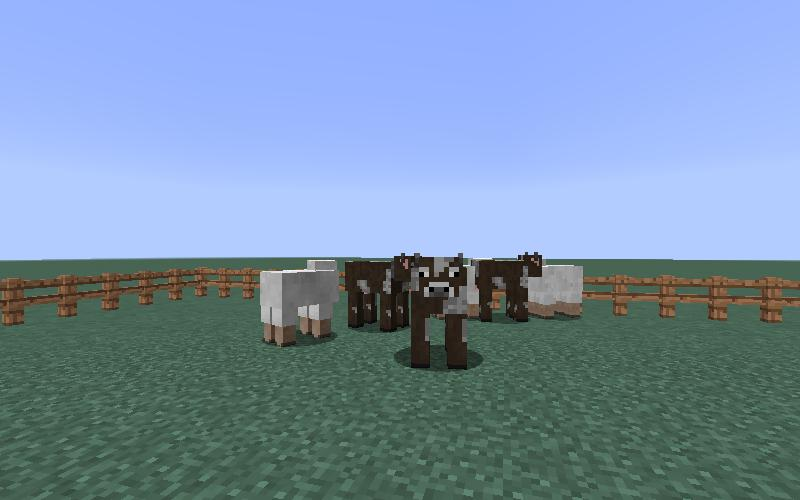cow: (405, 250, 473, 370), (473, 247, 544, 325), (343, 254, 407, 336)
sheep: (253, 256, 344, 347), (532, 264, 583, 316)
